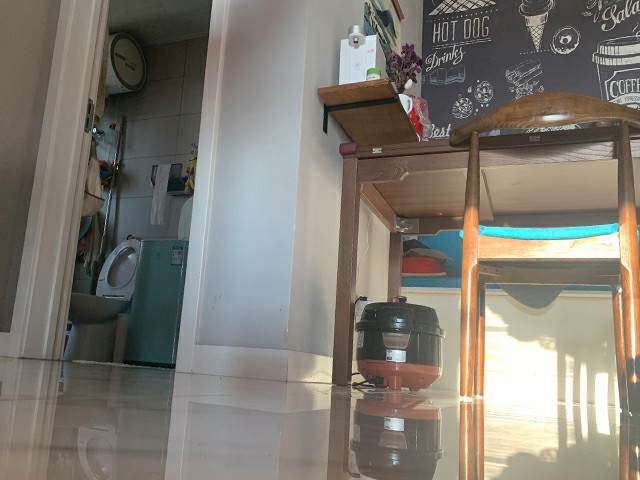closestool: (63, 237, 141, 363)
stool: (449, 90, 640, 404)
table: (332, 124, 640, 391)
wire: (350, 371, 385, 389)
